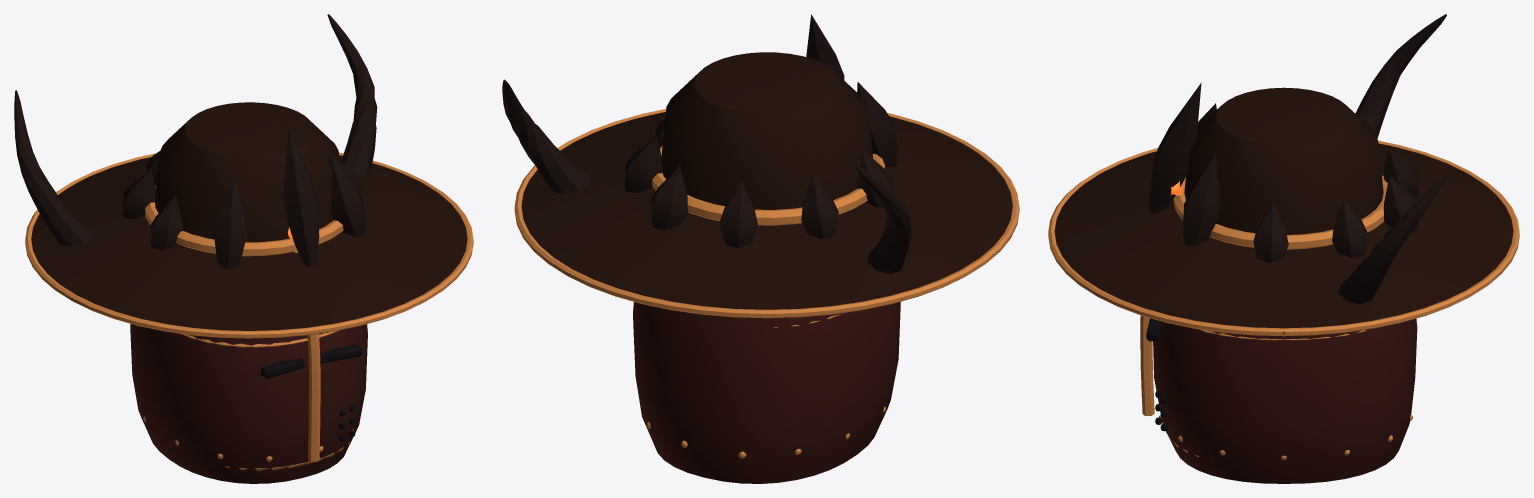
The model's file is asc_titanblood_champion_helm.glb.
3 renders of one model, left to right at view 1: azimuth 30°, elevation 25°; view 2: azimuth 150°, elevation 25°; view 3: azimuth 270°, elevation 25°, orthographic. The views are drawn at different scales.
Visible parts, largest first — view 1: asc_titanblood_champion_helm; view 2: asc_titanblood_champion_helm; view 3: asc_titanblood_champion_helm.
Boxes of the visible parts, bbox=[...] form: asc_titanblood_champion_helm: bbox=[14, 14, 473, 483]; asc_titanblood_champion_helm: bbox=[502, 14, 1019, 483]; asc_titanblood_champion_helm: bbox=[1048, 14, 1519, 483].
Bounding box in the file's own units: 0.6968 × 0.5895 × 0.6968.
